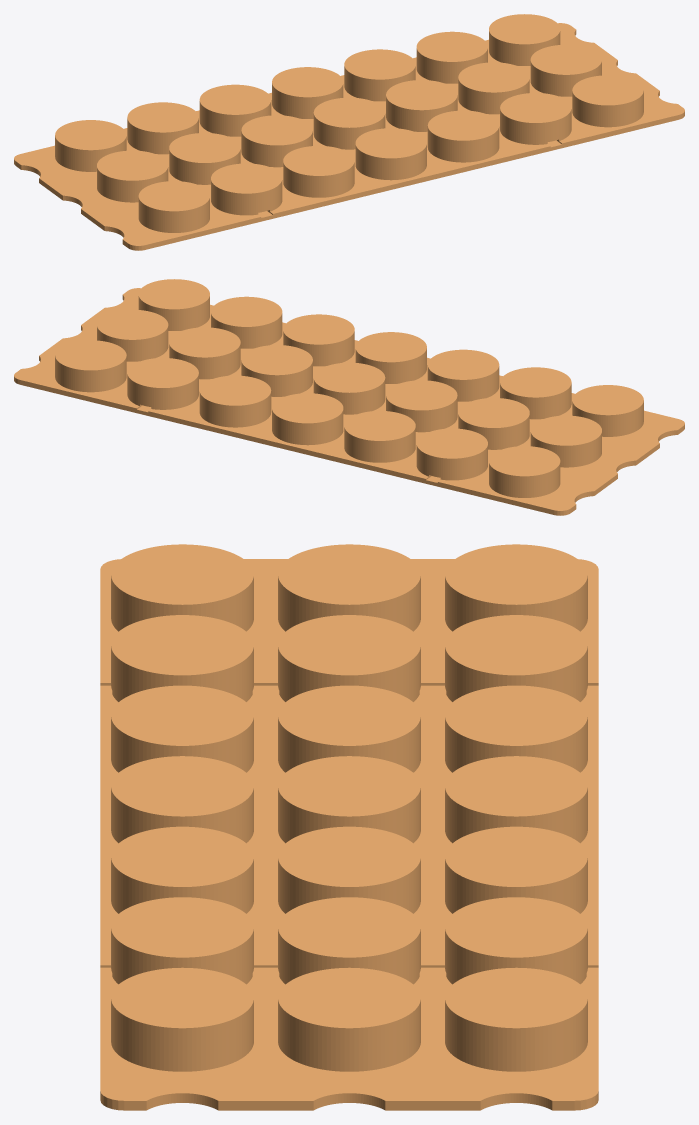
The model's file is skin-aero-cowl.glb.
3 views of the same model, one above another, from view 1: azimuth 30°, elevation 25°; view 2: azimuth 150°, elevation 25°; view 3: azimuth 270°, elevation 25° (orthographic). The views are drawn at different scales.
Visible parts, largest first — view 1: skin-aero-cowl; view 2: skin-aero-cowl; view 3: skin-aero-cowl.
Boxes of the visible parts, box(x1,y1,x2,y2) form: skin-aero-cowl: box(14, 14, 684, 250); skin-aero-cowl: box(14, 279, 684, 515); skin-aero-cowl: box(100, 544, 598, 1110).
Bounding box in the file's own units: 0.096 × 0.0044 × 0.0373.
